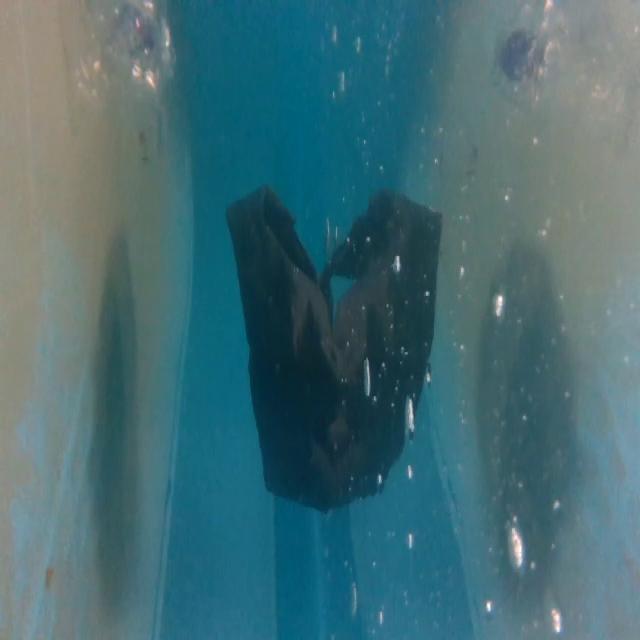plastic bags: (220, 180, 443, 516)
